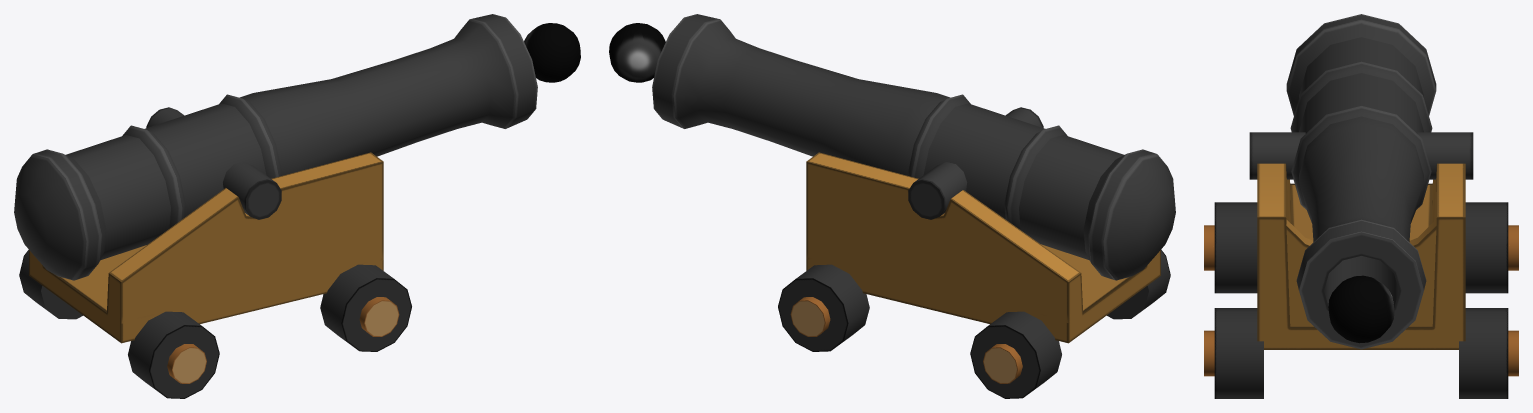
Rendered from LeftCannon.fbx.
3 views of the same model, side by side, from view 1: azimuth 30°, elevation 25°; view 2: azimuth 150°, elevation 25°; view 3: azimuth 270°, elevation 25° (orthographic). The views are drawn at different scales.
Visible parts, largest first — view 1: cannon_mesh_001, foundation_mesh_001, tire_mesh_002, tire_mesh_001, cannon_mesh_002, shell_mesh_001; view 2: cannon_mesh_001, foundation_mesh_001, tire_mesh_002, tire_mesh_001, cannon_mesh_002, shell_mesh_001; view 3: cannon_mesh_001, foundation_mesh_001, tire_mesh_001, tire_mesh_002, cannon_mesh_002, shell_mesh_001, foundation_mesh_002.
Boxes of the visible parts, x1=… form: cannon_mesh_001: x1=14, y1=14, x2=537, y2=280; foundation_mesh_001: x1=29, y1=152, x2=383, y2=343; tire_mesh_002: x1=19, y1=249, x2=219, y2=398; tire_mesh_001: x1=320, y1=264, x2=411, y2=351; cannon_mesh_002: x1=146, y1=107, x2=281, y2=219; shell_mesh_001: x1=524, y1=23, x2=580, y2=82; cannon_mesh_001: x1=652, y1=14, x2=1175, y2=280; foundation_mesh_001: x1=806, y1=152, x2=1160, y2=343; tire_mesh_002: x1=970, y1=249, x2=1170, y2=398; tire_mesh_001: x1=778, y1=264, x2=869, y2=351; cannon_mesh_002: x1=908, y1=107, x2=1043, y2=219; shell_mesh_001: x1=609, y1=23, x2=665, y2=82; cannon_mesh_001: x1=1286, y1=14, x2=1436, y2=349; foundation_mesh_001: x1=1257, y1=163, x2=1465, y2=349; tire_mesh_001: x1=1204, y1=308, x2=1518, y2=398; tire_mesh_002: x1=1204, y1=202, x2=1518, y2=293; cannon_mesh_002: x1=1249, y1=132, x2=1473, y2=179; shell_mesh_001: x1=1328, y1=275, x2=1394, y2=343; foundation_mesh_002: x1=1286, y1=219, x2=1436, y2=326.
Size of the model in its own units: 350 by 146 by 154.
